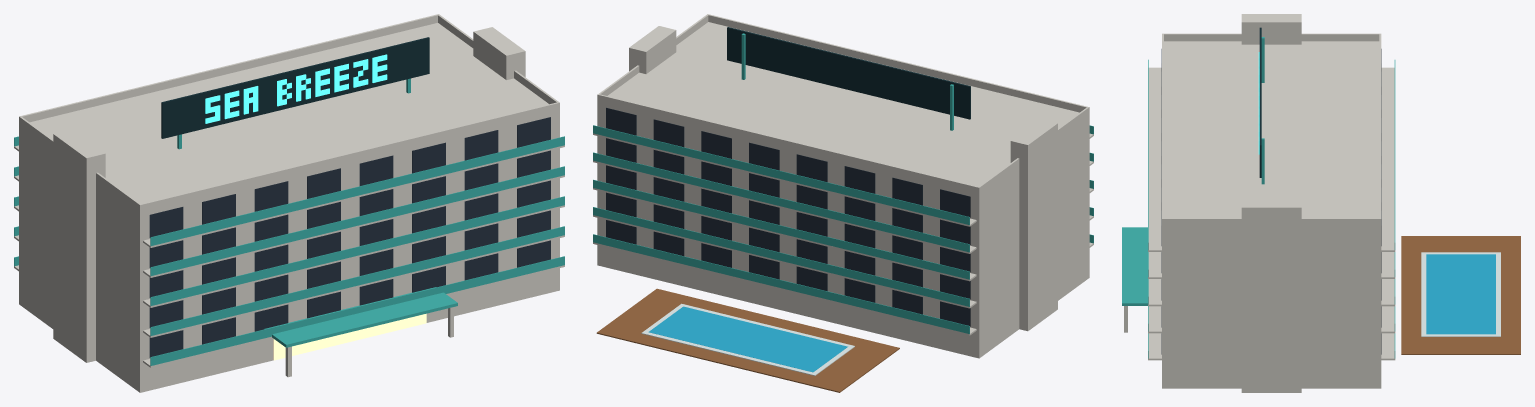
Rendered from bld_bh_resort.glb.
The picture shows the model from 3 angles, left to right: view 1: azimuth 30°, elevation 25°; view 2: azimuth 150°, elevation 25°; view 3: azimuth 270°, elevation 25°; orthographic projection. The views are drawn at different scales.
Parts seen in each view (by area): view 1: bld_bh_resort; view 2: bld_bh_resort; view 3: bld_bh_resort.
Boxes of the visible parts, bbox=[...] form: bld_bh_resort: bbox=[14, 14, 564, 392]; bld_bh_resort: bbox=[593, 14, 1093, 392]; bld_bh_resort: bbox=[1122, 14, 1520, 392].
Size of what is drawn, in the model's own units: 46 by 23.2 by 40.
